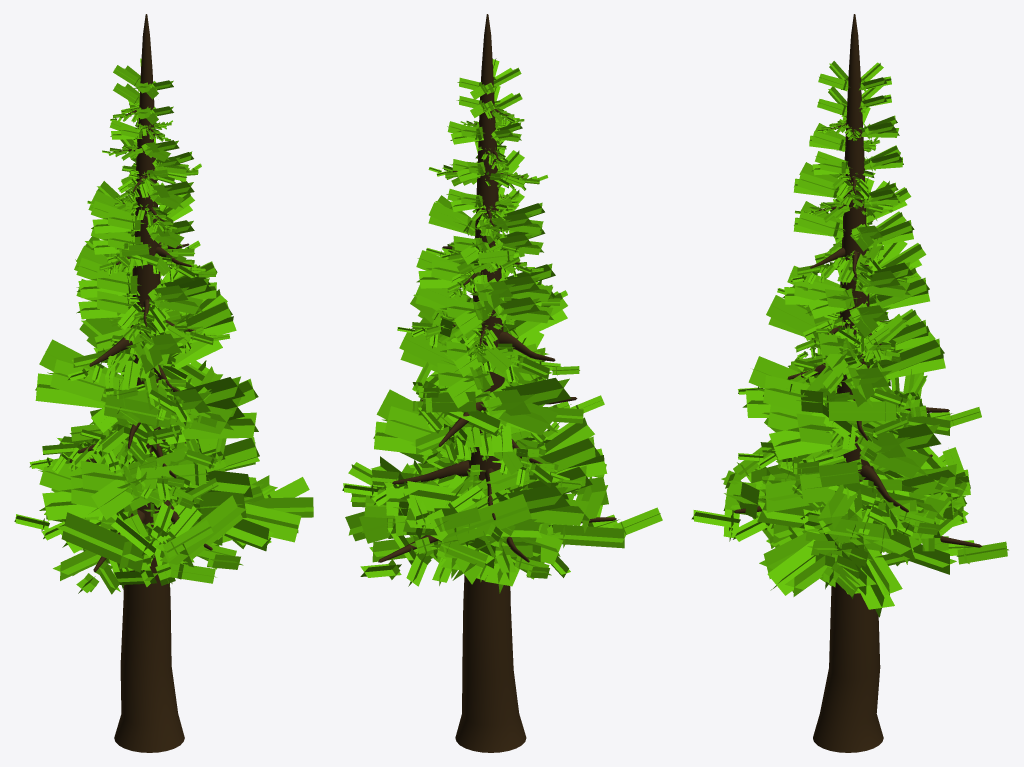
Rendered from Tree_Full.fbx.
The picture shows the model from 3 angles, left to right: view 1: azimuth 30°, elevation 25°; view 2: azimuth 150°, elevation 25°; view 3: azimuth 270°, elevation 25°; orthographic projection.
Parts seen in each view (by area): view 1: pPlane234, pCylinder33; view 2: pPlane234, pCylinder33; view 3: pPlane234, pCylinder33.
Boxes of the visible parts, box(x1,y1,x2,y2) form: pPlane234: box(14, 58, 313, 594); pCylinder33: box(62, 14, 212, 752); pPlane234: box(342, 58, 662, 593); pCylinder33: box(378, 14, 616, 752); pPlane234: box(691, 61, 1008, 617); pCylinder33: box(734, 14, 982, 752).
Bounding box in the file's own units: 179 × 458 × 182.
